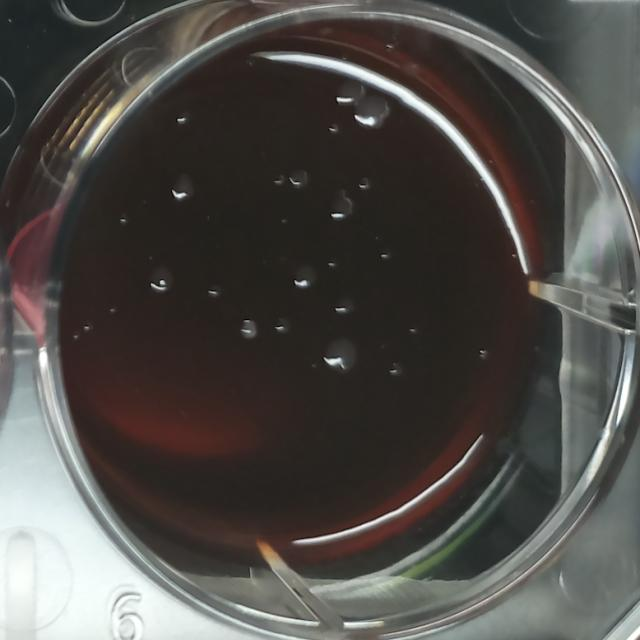Vibrio: (318, 333, 361, 377)
